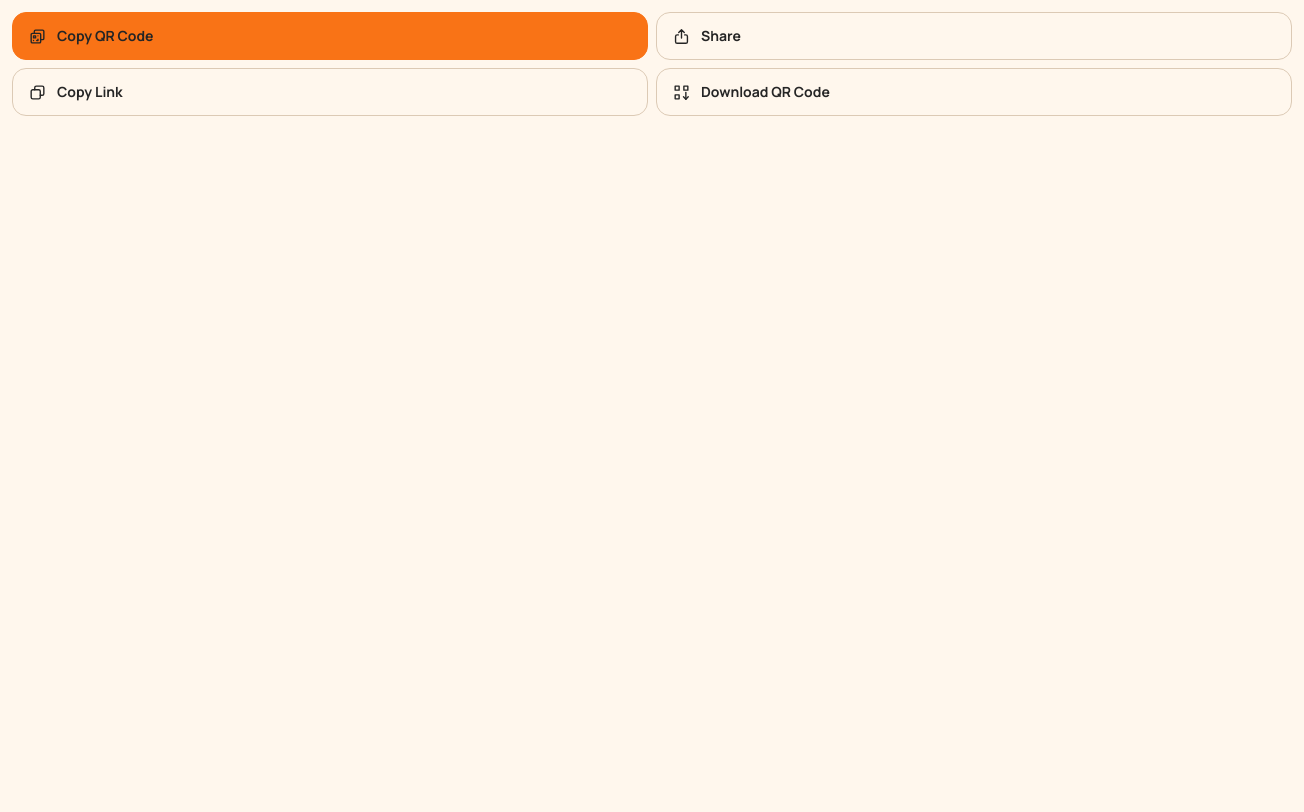
it: QR actions › reports a blocked clipboard instead of claiming success
This screenshot has width=1304, height=812.
Click the button with test id "copy-qr".
click(105, 36)  # box [12,12,648,60]
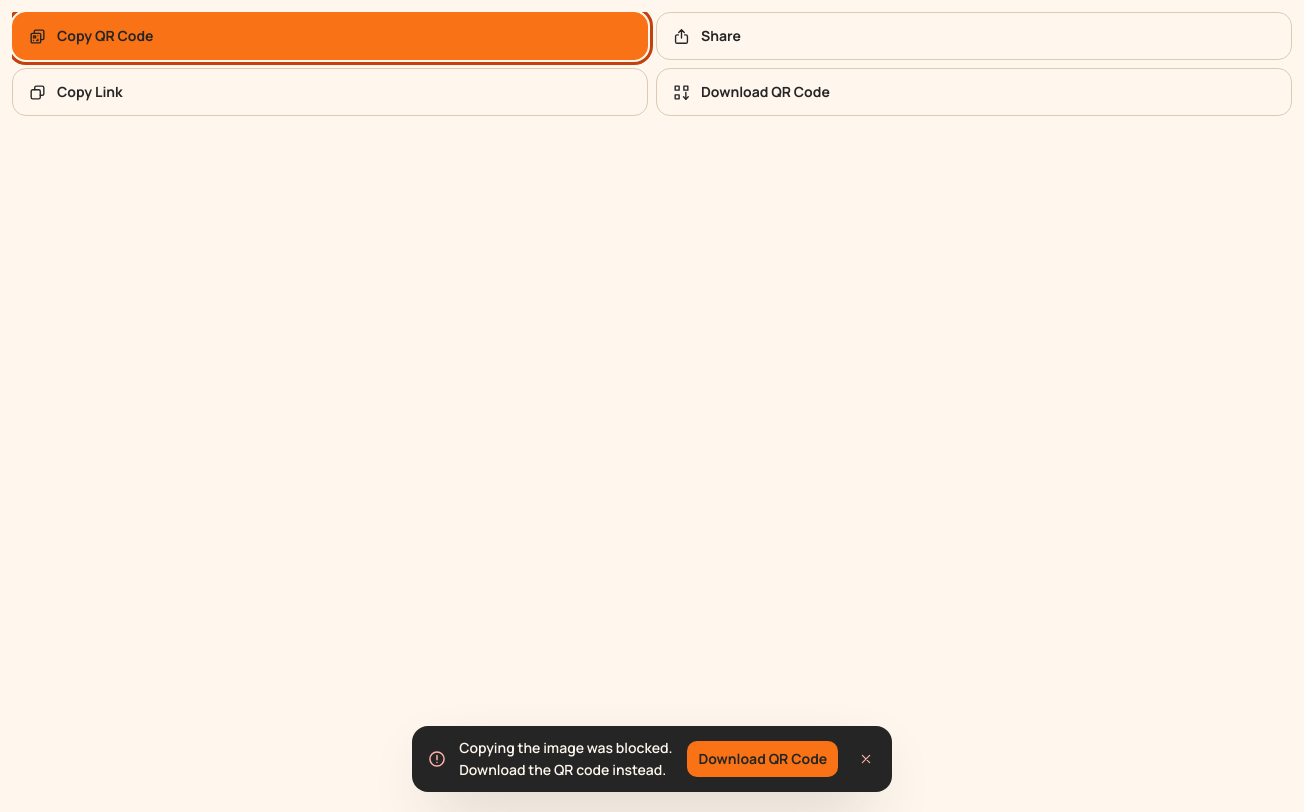
Expected: the text "Copying the image was blocked. Download the QR code instead." is shown, [459,737,675,781]
